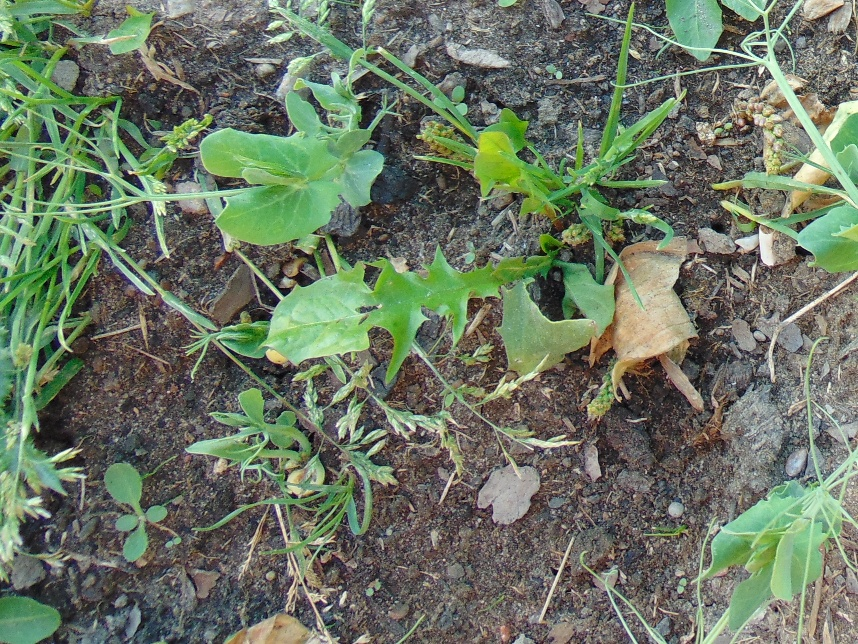crop: (75, 71, 385, 247), (685, 457, 857, 643), (791, 92, 858, 272), (183, 387, 310, 474), (726, 1, 807, 104)
weed: (1, 1, 125, 380), (260, 234, 574, 365), (467, 108, 666, 243), (1, 340, 87, 644), (504, 177, 619, 377), (256, 460, 367, 582), (336, 340, 447, 462), (106, 458, 167, 562), (665, 1, 725, 60), (707, 1, 765, 22)
